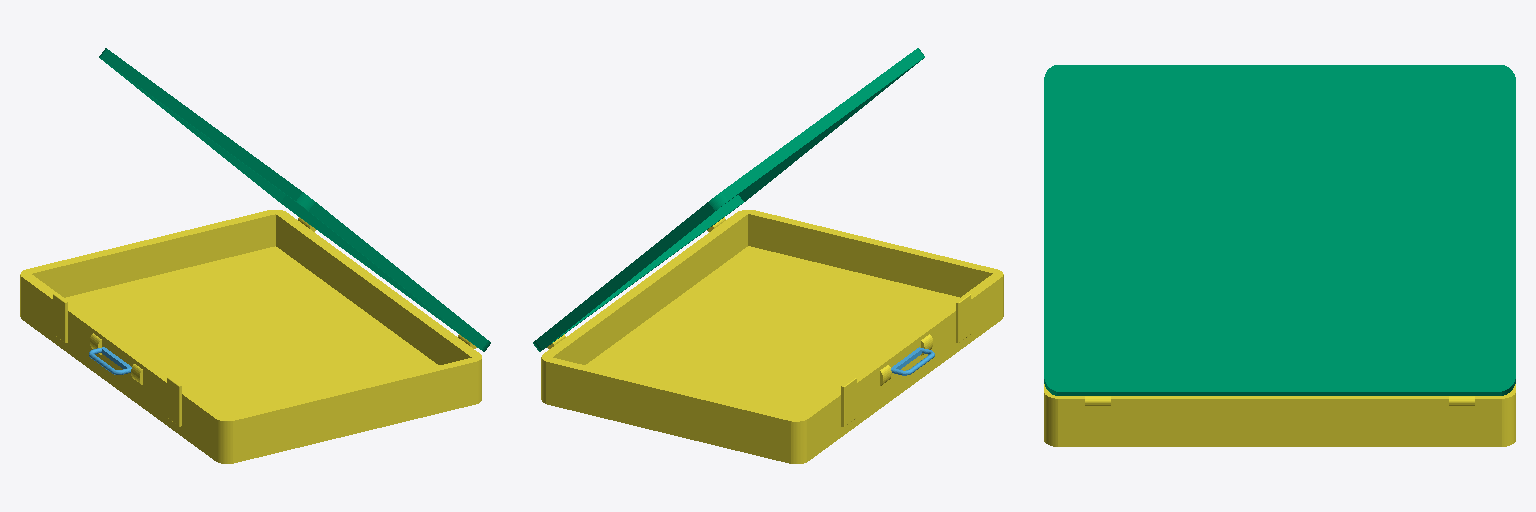
robot.urdf — partnet_c93fdcf6017f435c3dd5925057fea065-0:
<?xml version="1.0" ?>
<robot name="partnet_c93fdcf6017f435c3dd5925057fea065-0">
	<link name="base"/>
	<link name="link_0">
		<visual name="handle-1">
			<origin xyz="-0.0 -0.588622 0.1300685"/>
			<geometry>
				<mesh filename="textured_objs/original-6.obj"/>
			</geometry>
		</visual>
		<collision>
			<origin xyz="-0.0 -0.588622 0.1300685"/>
			<geometry>
				<mesh filename="textured_objs/original-6.obj"/>
			</geometry>
		</collision>
	</link>
	<joint name="joint_0" type="revolute">
		<origin xyz="0.0 0.588622 -0.1300685"/>
		<axis xyz="1.0 -0.0 -0.0"/>
		<child link="link_0"/>
		<parent link="link_2"/>
		<limit lower="-1.5707963267948966" upper="1.5707963267948966"/>
	</joint>
	<link name="link_1">
		<visual name="lid-2">
			<origin xyz="-0.0 0.4674716582402592 0.085884"/>
			<geometry>
				<mesh filename="textured_objs/original-9.obj"/>
			</geometry>
		</visual>
		<visual name="lid-2">
			<origin xyz="-0.0 0.4674716582402592 0.085884"/>
			<geometry>
				<mesh filename="textured_objs/original-10.obj"/>
			</geometry>
		</visual>
		<collision>
			<origin xyz="-0.0 0.4674716582402592 0.085884"/>
			<geometry>
				<mesh filename="textured_objs/original-9.obj"/>
			</geometry>
		</collision>
		<collision>
			<origin xyz="-0.0 0.4674716582402592 0.085884"/>
			<geometry>
				<mesh filename="textured_objs/original-10.obj"/>
			</geometry>
		</collision>
	</link>
	<joint name="joint_1" type="revolute">
		<origin xyz="0.0 -0.4674716582402592 -0.085884"/>
		<axis xyz="1.0 -0.0 -0.0"/>
		<child link="link_1"/>
		<parent link="link_2"/>
		<limit lower="-0.7853981633974483" upper="2.356194490192345"/>
	</joint>
	<link name="link_2">
		<visual name="base_body-3">
			<origin xyz="0 0 0"/>
			<geometry>
				<mesh filename="textured_objs/original-4.obj"/>
			</geometry>
		</visual>
		<visual name="base_body-3">
			<origin xyz="0 0 0"/>
			<geometry>
				<mesh filename="textured_objs/original-3.obj"/>
			</geometry>
		</visual>
		<visual name="base_body-3">
			<origin xyz="0 0 0"/>
			<geometry>
				<mesh filename="textured_objs/original-2.obj"/>
			</geometry>
		</visual>
		<visual name="base_body-3">
			<origin xyz="0 0 0"/>
			<geometry>
				<mesh filename="textured_objs/original-5.obj"/>
			</geometry>
		</visual>
		<visual name="base_body-3">
			<origin xyz="0 0 0"/>
			<geometry>
				<mesh filename="textured_objs/original-11.obj"/>
			</geometry>
		</visual>
		<visual name="base_body-3">
			<origin xyz="0 0 0"/>
			<geometry>
				<mesh filename="textured_objs/original-12.obj"/>
			</geometry>
		</visual>
		<visual name="base_body-3">
			<origin xyz="0 0 0"/>
			<geometry>
				<mesh filename="textured_objs/original-7.obj"/>
			</geometry>
		</visual>
		<collision>
			<origin xyz="0 0 0"/>
			<geometry>
				<mesh filename="textured_objs/original-4.obj"/>
			</geometry>
		</collision>
		<collision>
			<origin xyz="0 0 0"/>
			<geometry>
				<mesh filename="textured_objs/original-3.obj"/>
			</geometry>
		</collision>
		<collision>
			<origin xyz="0 0 0"/>
			<geometry>
				<mesh filename="textured_objs/original-2.obj"/>
			</geometry>
		</collision>
		<collision>
			<origin xyz="0 0 0"/>
			<geometry>
				<mesh filename="textured_objs/original-5.obj"/>
			</geometry>
		</collision>
		<collision>
			<origin xyz="0 0 0"/>
			<geometry>
				<mesh filename="textured_objs/original-11.obj"/>
			</geometry>
		</collision>
		<collision>
			<origin xyz="0 0 0"/>
			<geometry>
				<mesh filename="textured_objs/original-12.obj"/>
			</geometry>
		</collision>
		<collision>
			<origin xyz="0 0 0"/>
			<geometry>
				<mesh filename="textured_objs/original-7.obj"/>
			</geometry>
		</collision>
	</link>
	<joint name="joint_2" type="fixed">
		<origin rpy="3.1415926 3.1415926 -1.570796326794897" xyz="0 0 0"/>
		<child link="link_2"/>
		<parent link="base"/>
	</joint>
</robot>

--- What the picture shows (computed from the rendered views, not written in the file) ---
Views: 3 orthographic renders of the robot side by side, from view 1: azimuth 30°, elevation 25°; view 2: azimuth 150°, elevation 25°; view 3: azimuth 270°, elevation 25°.
Robot: partnet_c93fdcf6017f435c3dd5925057fea065-0 — 4 links, 3 joints (2 revolute, 1 fixed); root link base; default pose: every joint at zero.
Links seen in each view (by area): view 1: link_2, link_1; view 2: link_2, link_1; view 3: link_1, link_2.
Link boxes in pixels (x1,y1,x2,y2): link_2: (20,210,481,463); link_1: (99,48,490,351); link_2: (541,210,1003,463); link_1: (533,48,924,351); link_1: (1044,65,1515,395); link_2: (1044,384,1515,446).
Bounding box of the posed robot: 1.14 × 1.41 × 0.9511 m (x, y, z).
10 mesh visuals loaded from 10 distinct referenced files (10 OBJ).